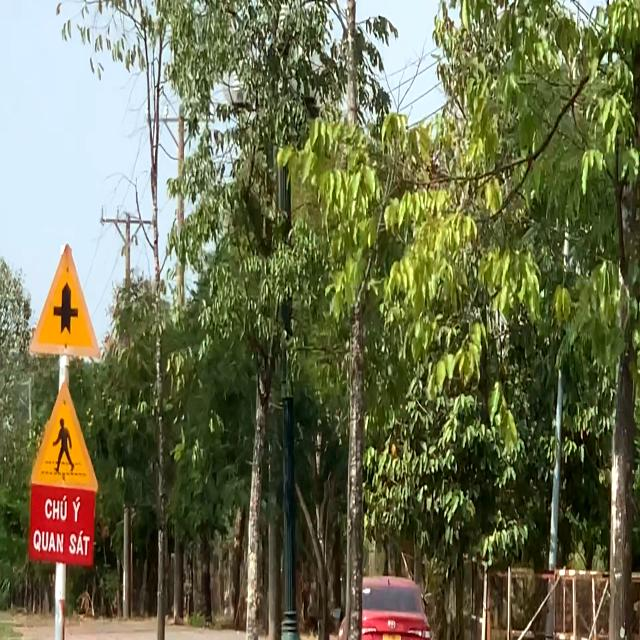W.207a: (28, 243, 102, 362)
W.224: (30, 381, 99, 494)
